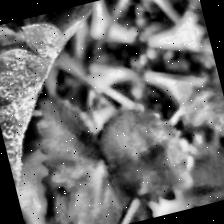Powdery Mildew Leaf: (0, 2, 146, 224)
